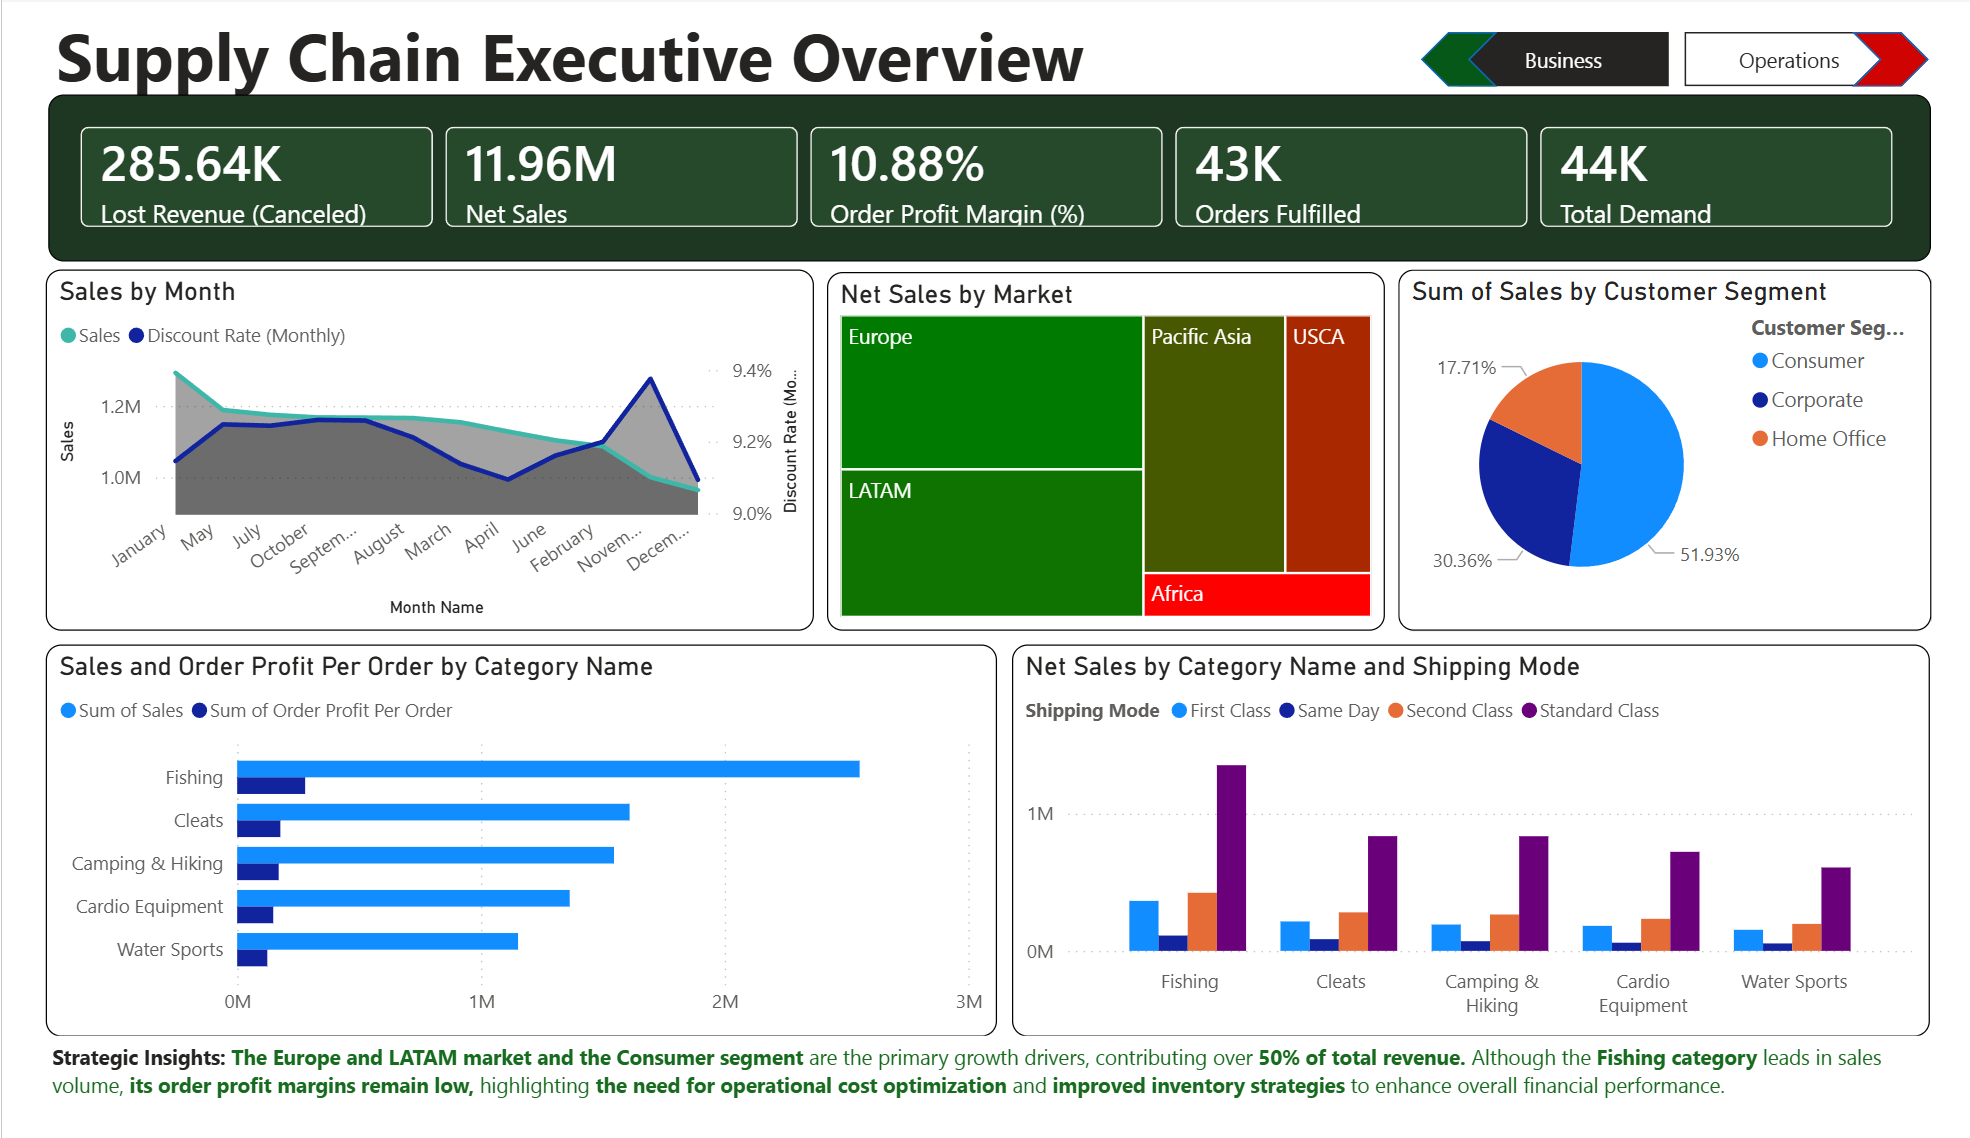

The dashboard page shown, as its layout file describes it:
{"tool":"powerbi","page":{"name":"Business","canvas":[1280,720],"ordinal":0},"visuals":[{"type":"textbox","box":[30,0,1204.4,71.1],"z":0},{"type":"cardVisual","fields":{"Data":["_MEASURES KPI 1.Lost Revenue (Canceled)","_MEASURES KPI 1.Net Sales","_MEASURES KPI 1.Order Profit Margin (%)","_MEASURES KPI 1.Orders Fulfilled","_MEASURES KPI 1.Total Demand"]},"box":[30,60,1217.8,107.8],"z":1000},{"type":"lineChart","title":"Sales by Month","fields":{"Y":["Sum(FACT_SupplyChain.Sales)"],"Category":["FACT_SupplyChain.Month Name"],"Y2":["FACT_SupplyChain.Avg Discount Rate"]},"box":[28,172.9,497.1,233.6],"z":2000},{"type":"clusteredBarChart","title":"Sales and Order Profit Per Order by Category Name","fields":{"Category":["FACT_SupplyChain.Category Name"],"Y":["Sum(FACT_SupplyChain.Sales)","Sum(FACT_SupplyChain.Order Profit Per Order)"]},"box":[28,415.8,614.9,253.2],"z":3000},{"type":"treemap","fields":{"Group":["FACT_SupplyChain.Market"],"Values":["_MEASURES KPI 1.Net Sales"]},"box":[533.8,174.2,361.1,232.2],"z":4000},{"type":"clusteredColumnChart","fields":{"Category":["FACT_SupplyChain.Category Name"],"Y":["_MEASURES KPI 1.Net Sales"],"Series":["FACT_SupplyChain.Shipping Mode"]},"box":[653.3,415.6,593.3,253.3],"z":5000},{"type":"pieChart","fields":{"Category":["FACT_SupplyChain.Customer Segment"],"Y":["Sum(FACT_SupplyChain.Sales)"]},"box":[902.7,173.1,344.4,233.3],"z":6000},{"type":"textbox","box":[27.8,668.9,1220,51.1],"z":7000},{"type":"pageNavigator","box":[941.8,19.2,283,35.5],"z":8000},{"type":"shape","box":[1196.8,19.5,49.7,35.5],"z":9000},{"type":"shape","box":[917.3,19.5,49.7,35.5],"z":10000}]}

Visuals, with their boxes in screenshot pixels (x1, y1, x2, y2), scaled from the page's 1280x720 canvas onto the 1970x1138 screenshot:
textbox: [46, 0, 1900, 112]
cardVisual - _MEASURES KPI 1.Lost Revenue (Canceled) x _MEASURES KPI 1.Net Sales: [46, 95, 1920, 265]
"Sales by Month" lineChart: [43, 273, 808, 642]
"Sales and Order Profit Per Order by Category Name" clusteredBarChart: [43, 657, 989, 1057]
treemap - FACT_SupplyChain.Market x _MEASURES KPI 1.Net Sales: [822, 275, 1377, 642]
clusteredColumnChart - FACT_SupplyChain.Category Name x _MEASURES KPI 1.Net Sales: [1005, 657, 1919, 1057]
pieChart - FACT_SupplyChain.Customer Segment x Sum(FACT_SupplyChain.Sales): [1389, 274, 1919, 642]
textbox: [43, 1057, 1920, 1137]
pageNavigator: [1449, 30, 1885, 86]
shape: [1842, 31, 1918, 87]
shape: [1412, 31, 1488, 87]
